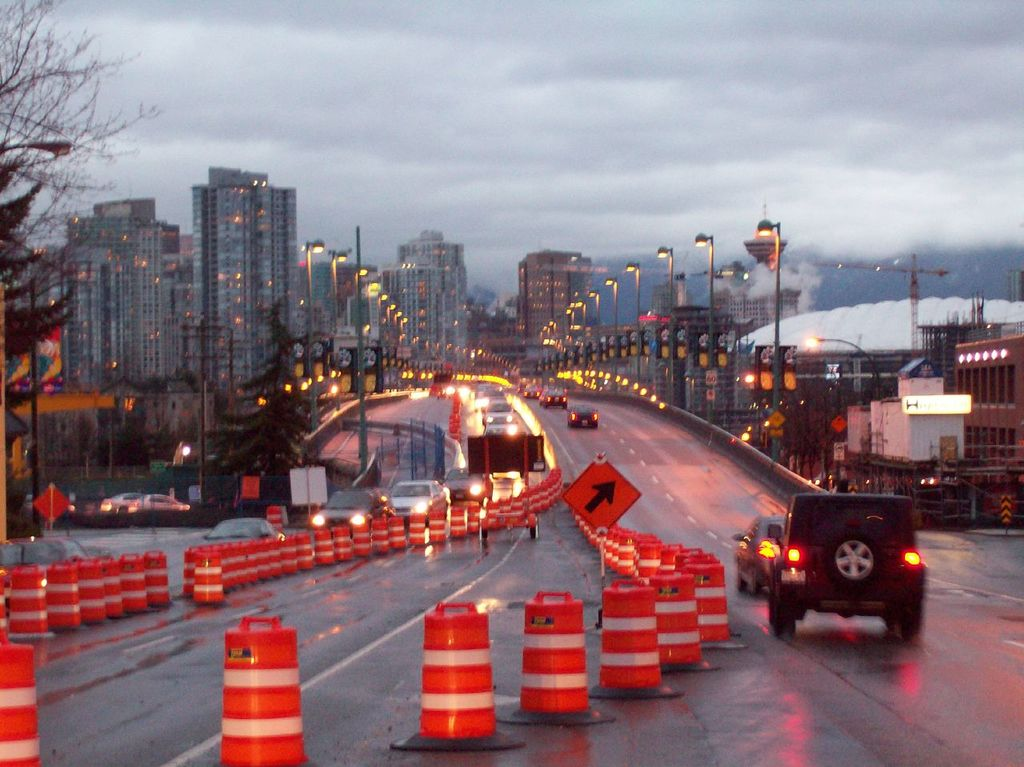Car: (768, 483, 930, 636), (732, 514, 788, 600), (305, 483, 397, 528), (384, 474, 451, 515), (203, 511, 280, 543), (566, 398, 602, 430)
